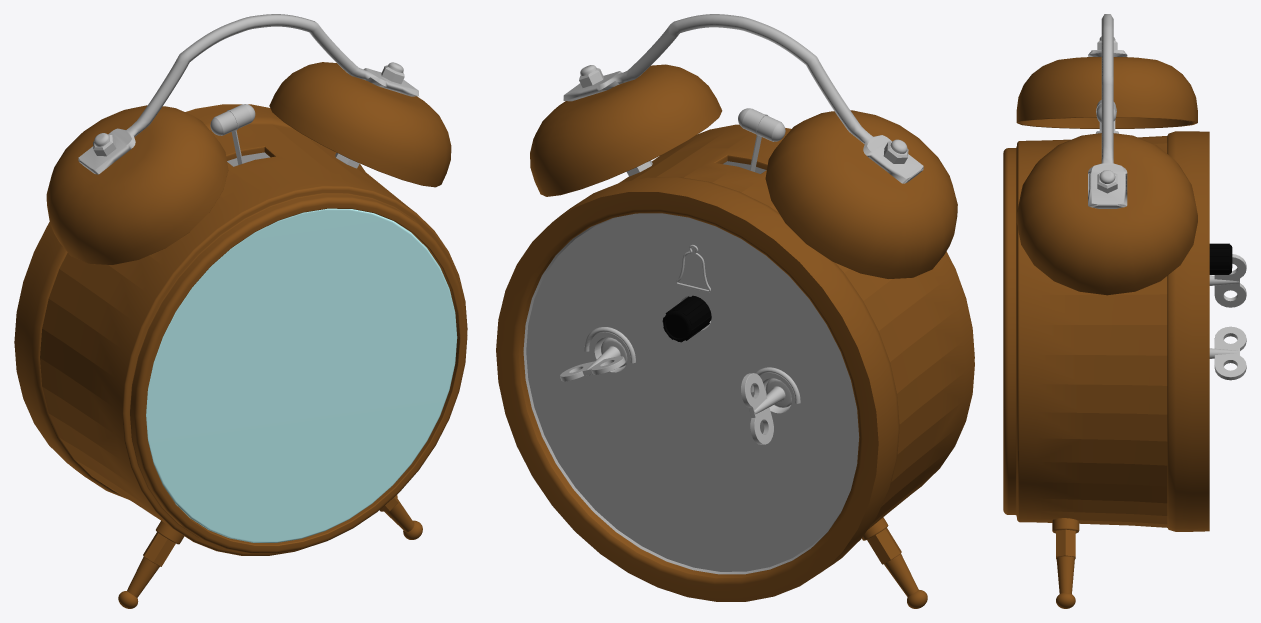
Rendered from clock.glb.
3 views of the same model, side by side, from view 1: azimuth 30°, elevation 25°; view 2: azimuth 150°, elevation 25°; view 3: azimuth 270°, elevation 25° (orthographic). The views are drawn at different scales.
Parts seen in each view (by area): view 1: 01; view 2: 01; view 3: 01.
Part boxes in pixels (<box>): 01: <box>14,14,467,608</box>; 01: <box>496,14,974,608</box>; 01: <box>1003,14,1246,608</box>.
Bounding box in the file's own units: 6.71 × 9.12 × 3.9.
